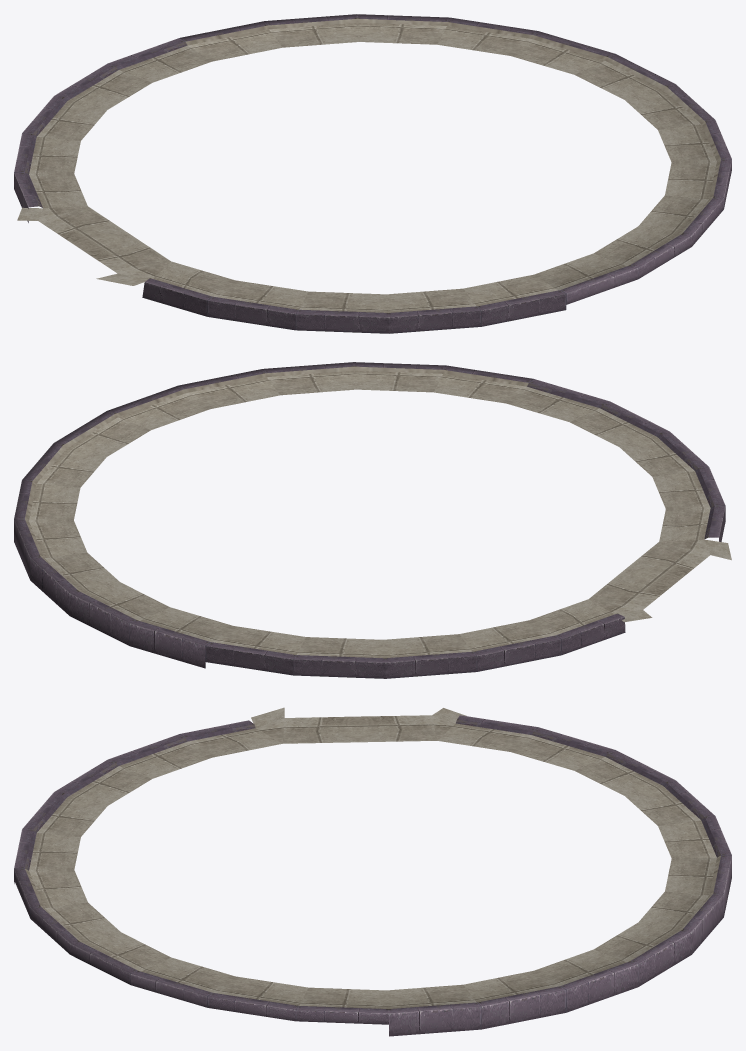
The model's file is s_battle_05_floor3.FBX.
3 views of the same model, one above another, from view 1: azimuth 30°, elevation 25°; view 2: azimuth 150°, elevation 25°; view 3: azimuth 270°, elevation 25° (orthographic).
Parts seen in each view (by area): view 1: f33, f31, floor34, f32; view 2: floor34, f31, f33, f32; view 3: f32, floor34, f33, f31.
Part boxes in pixels (box(x1,y1,x2,y2)): f33: box(295, 195, 723, 333); f31: box(14, 133, 308, 330); floor34: box(22, 14, 449, 140); f32: box(437, 17, 731, 208); floor34: box(30, 552, 477, 678); f31: box(459, 467, 731, 671); f33: box(262, 362, 708, 476); f32: box(14, 369, 279, 579); f32: box(130, 949, 638, 1036); floor34: box(575, 750, 731, 986); f33: box(14, 759, 170, 984); f31: box(108, 707, 614, 778).
Size of the model in its own units: 41.71 by 1.44 by 41.02.
